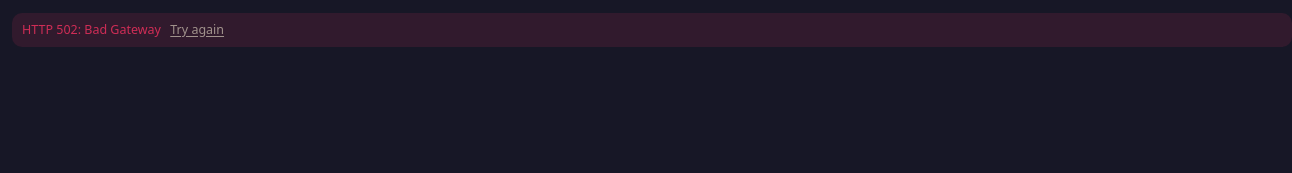
Test: PrDetails › says so when no checks have reported, and when GitHub cannot be reached (with a retry)
expect the message shows "HTTP 502": met, box x1=22 y1=20 x2=161 y2=38
Click the button "Try again" at coordinates (197, 30), box x1=164 y1=18 x2=230 y2=41
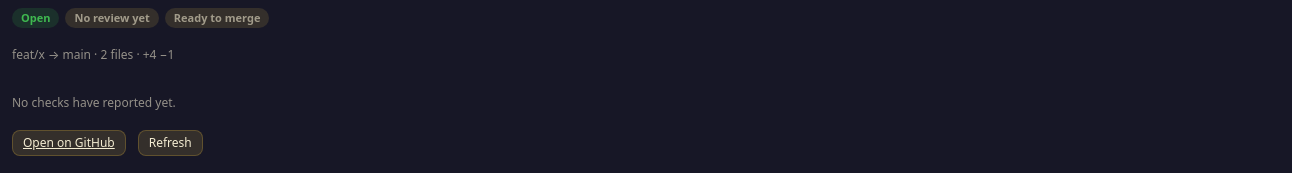
expect the text "No checks have reported yet." is shown: met, box x1=12 y1=94 x2=176 y2=111
